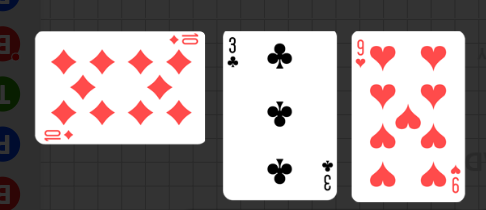10D: (167, 32, 200, 46), (43, 128, 75, 142)
9H: (449, 163, 462, 195)
